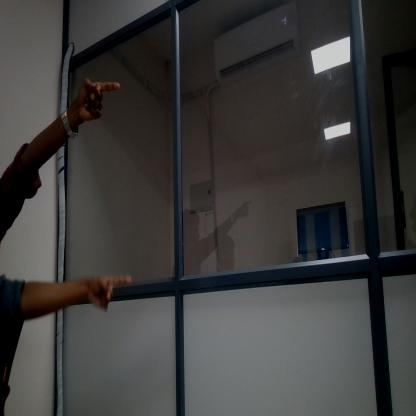Left: (85, 69, 125, 124)
